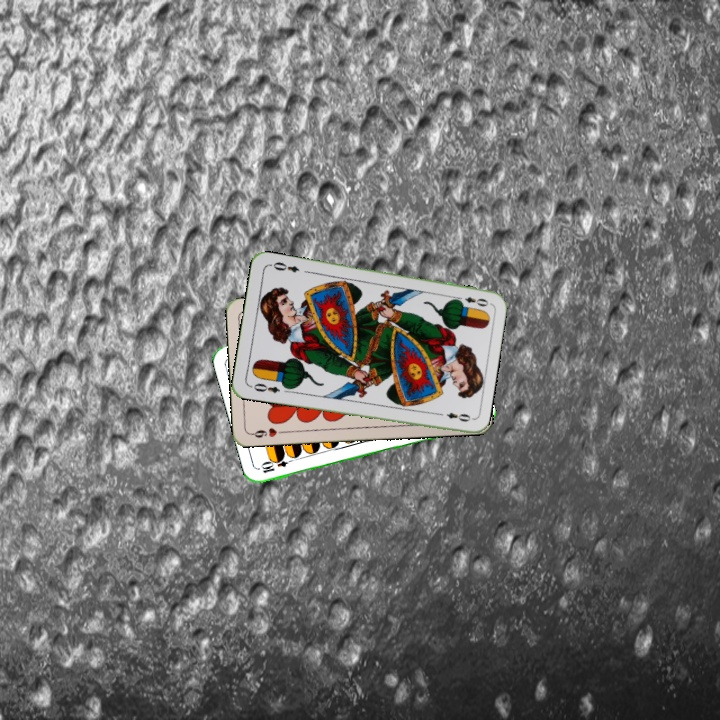E10: (257, 453, 297, 476)
EO: (451, 292, 491, 309), (246, 379, 282, 396)
H9: (247, 424, 288, 440)
